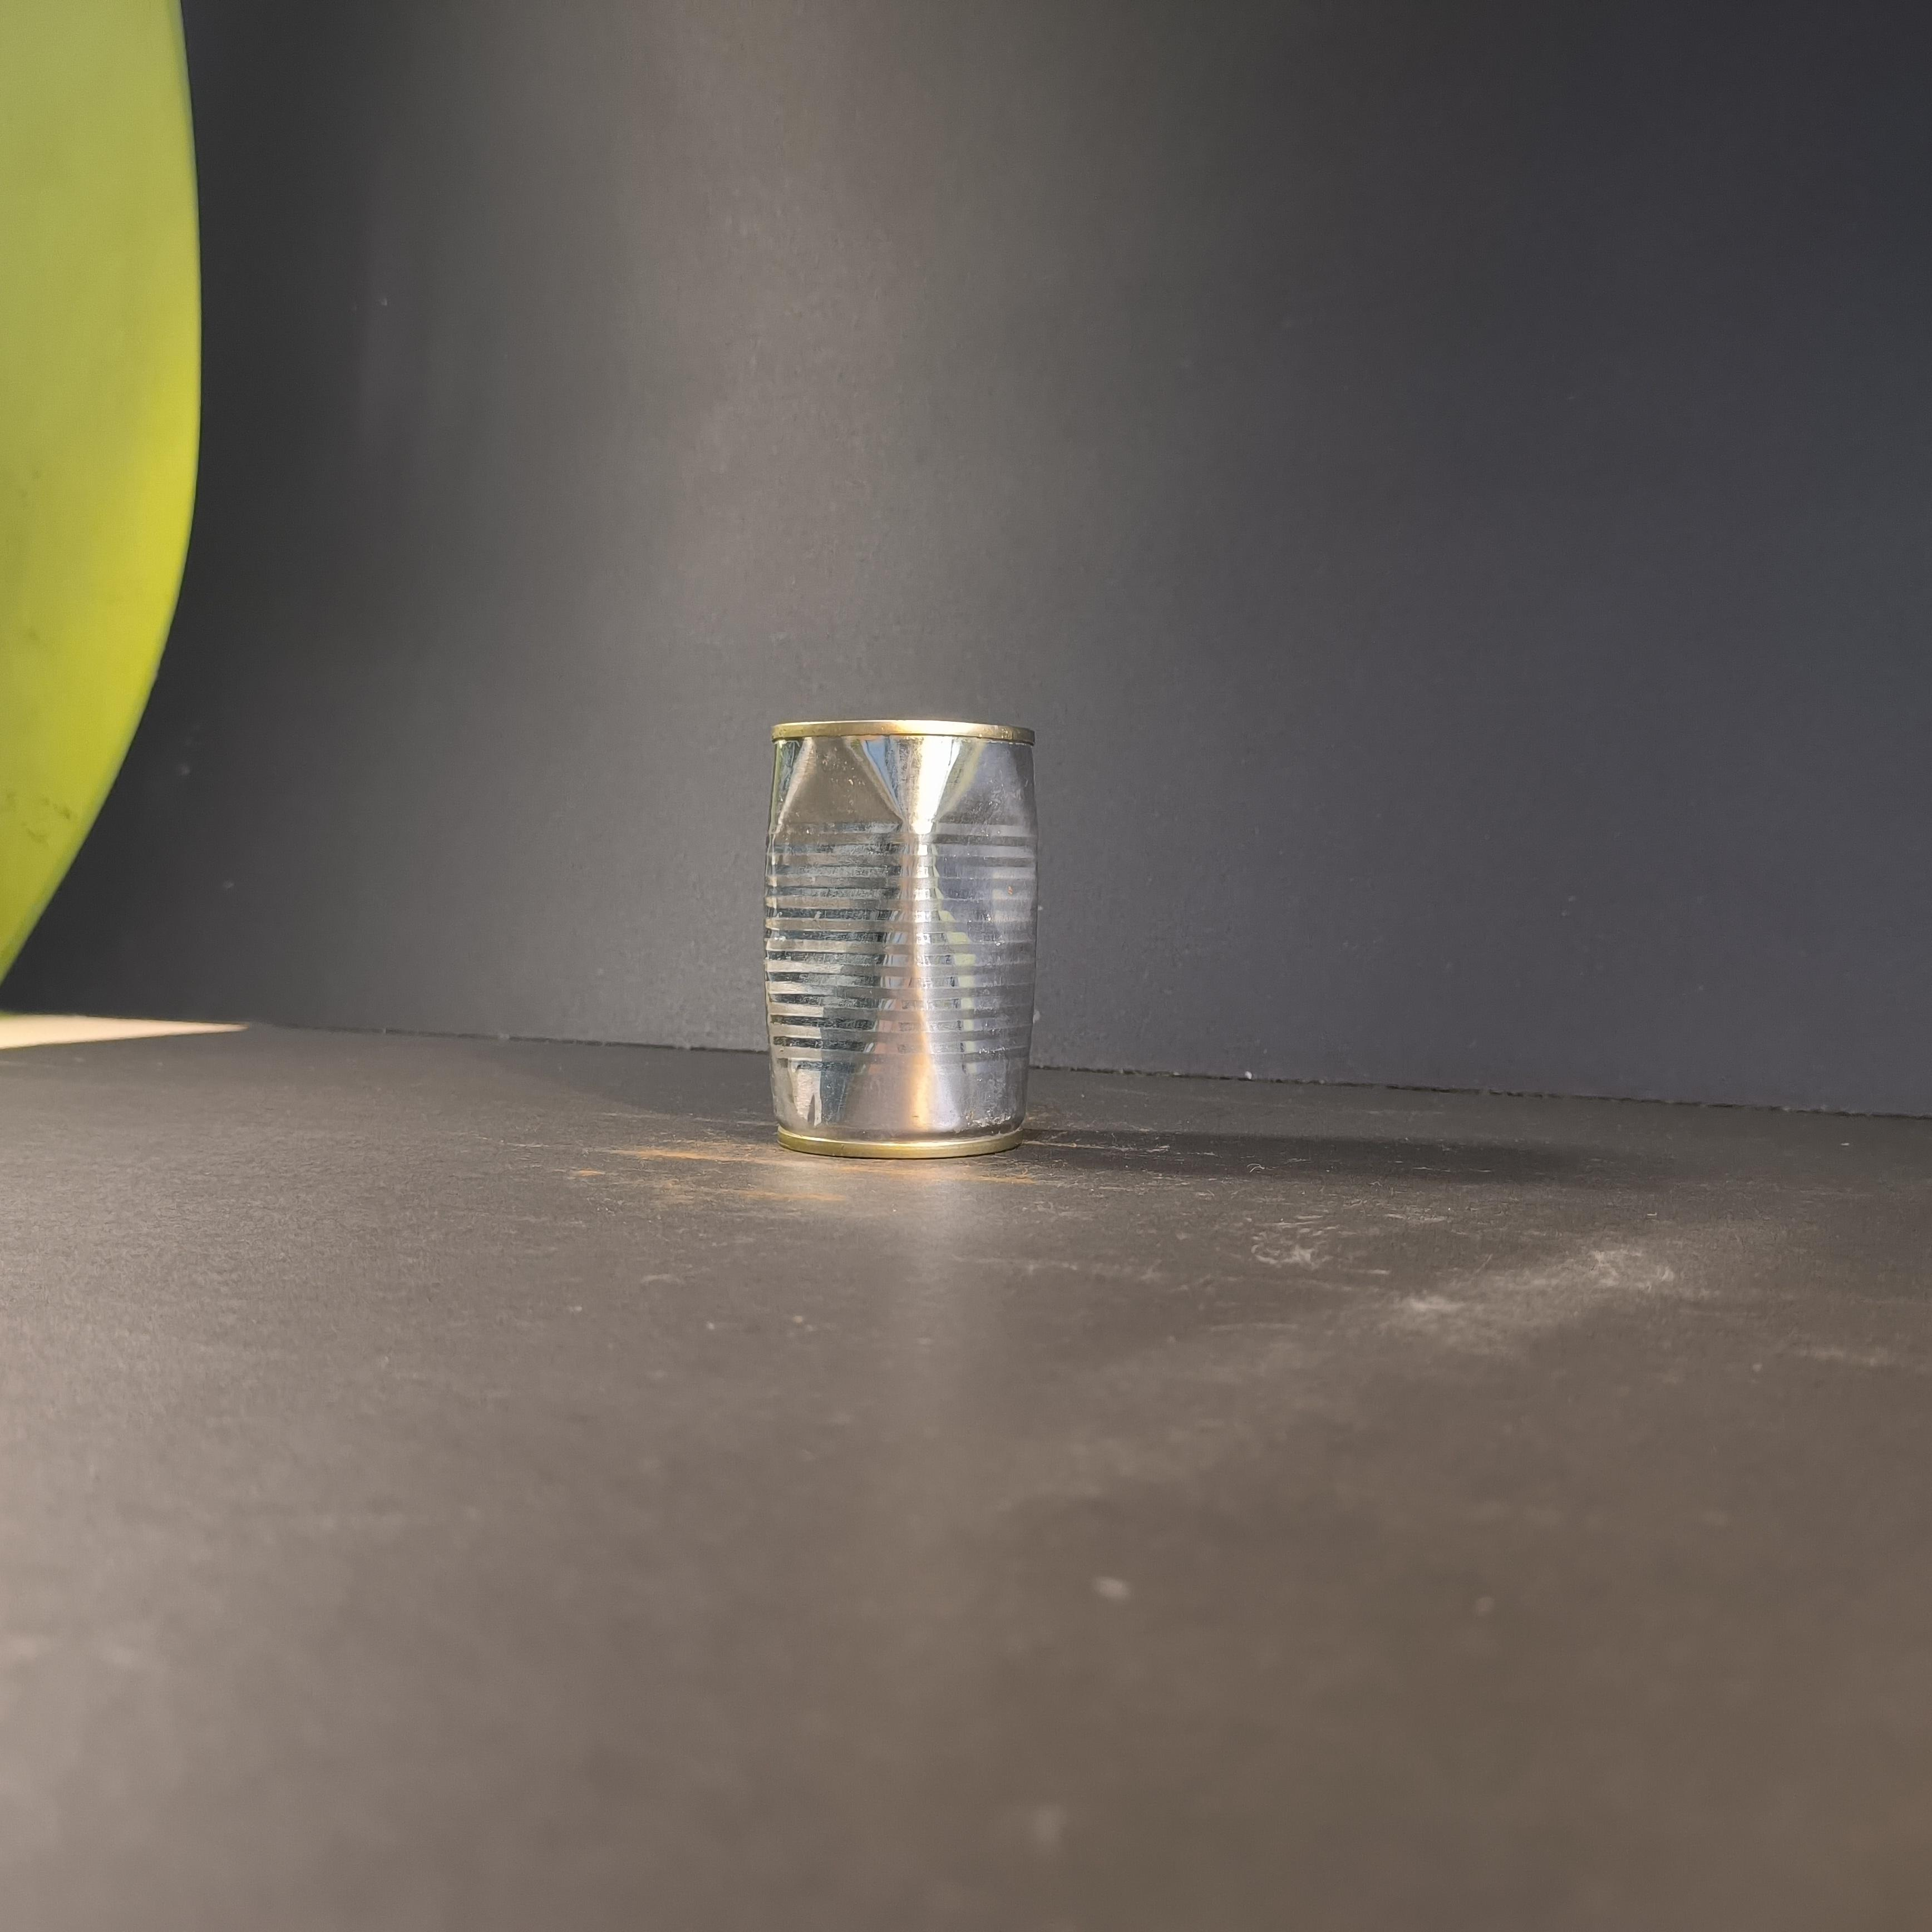Dented: (759, 681, 1051, 1182)
